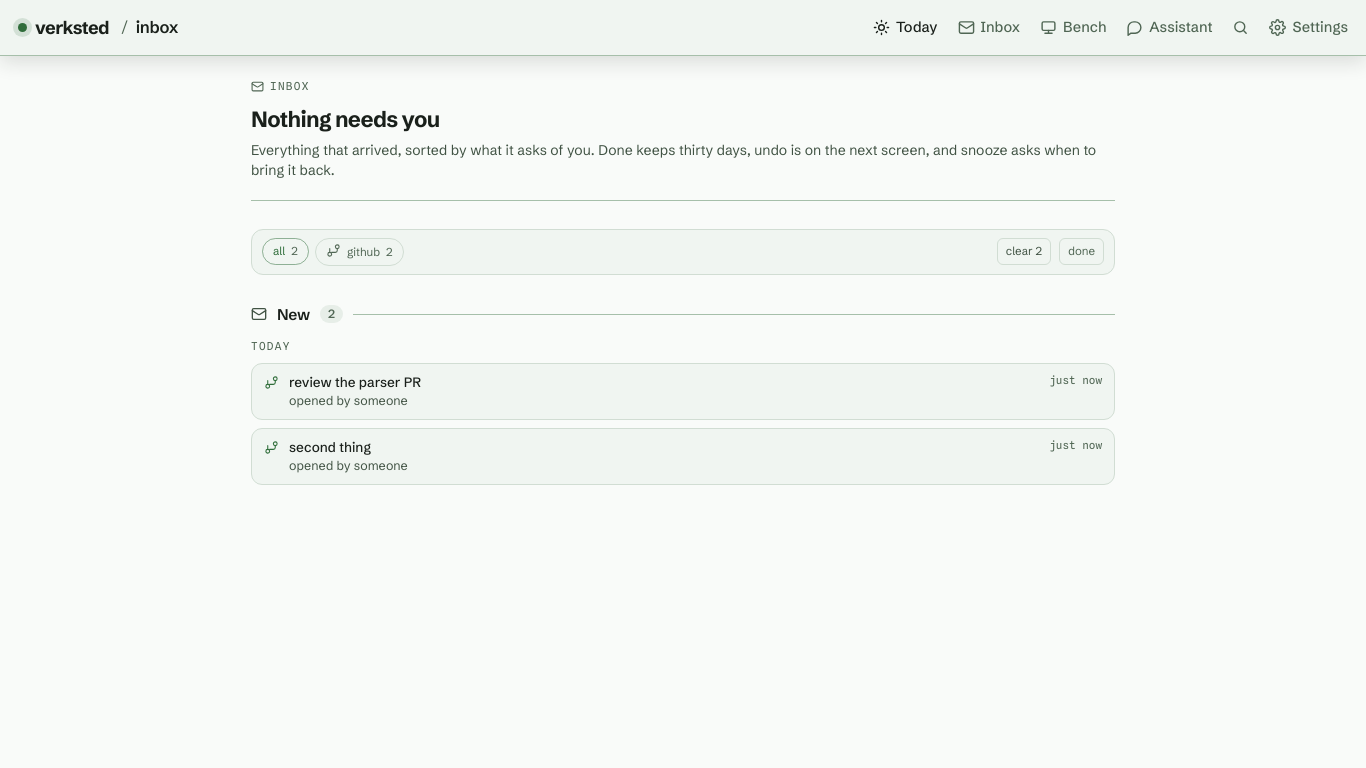
Scenario: a row the pod refuses › says so when the list's own clear fails
Click the button "clear 2". click: (1024, 252)
box: x1=997 y1=238 x2=1051 y2=265
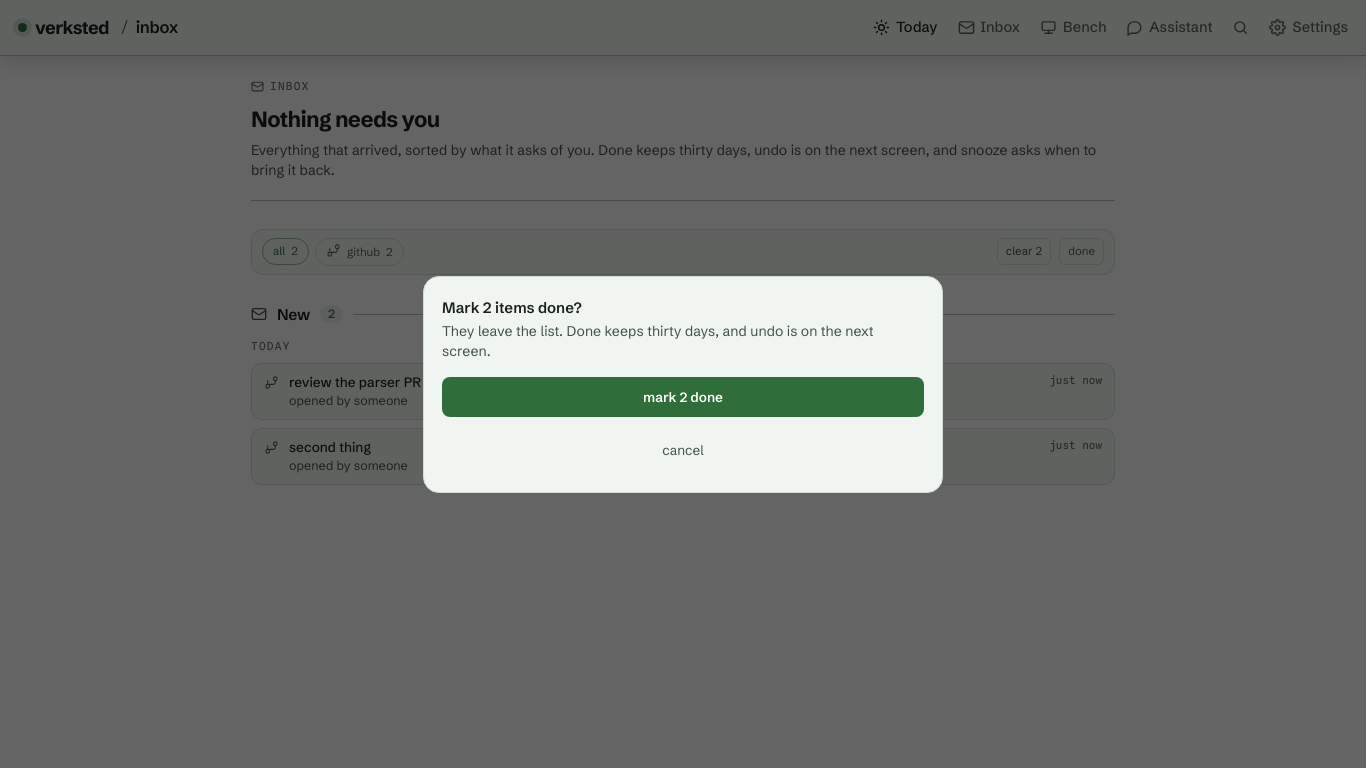
Click the button "mark 2 done". click: (683, 397)
box: x1=442 y1=377 x2=924 y2=417
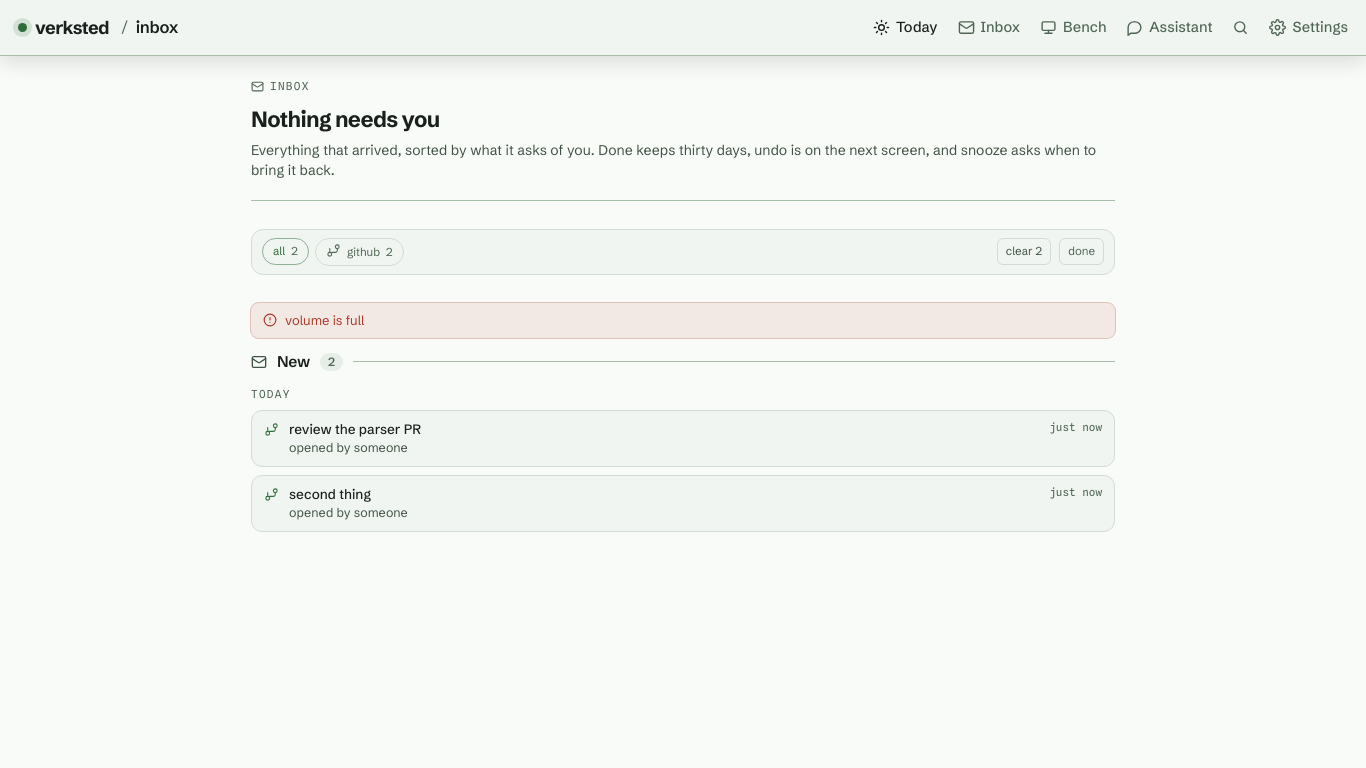
Check: the button "undo" is not shown
Check: the message reads "volume is full", box x1=285 y1=312 x2=364 y2=328
